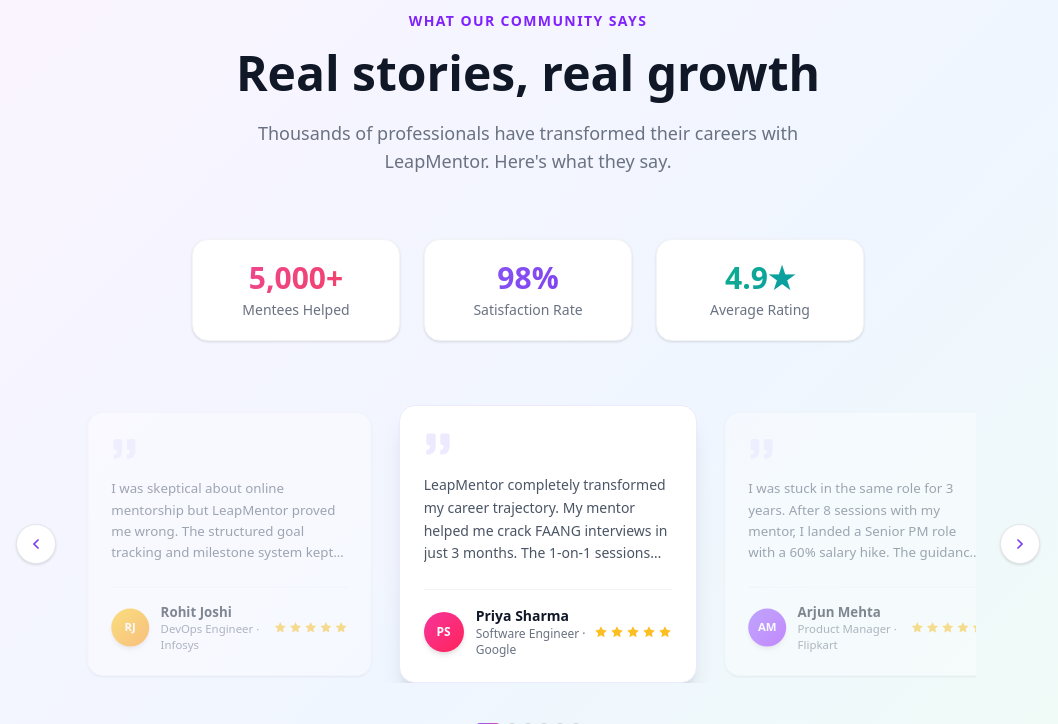
Test: TestimonialsWidget › navigates using prev/next buttons and respects animating guard
Click the button with aria-label "Show next testimonial": (867, 544) [717,405,1016,683]
Wait 300 ms
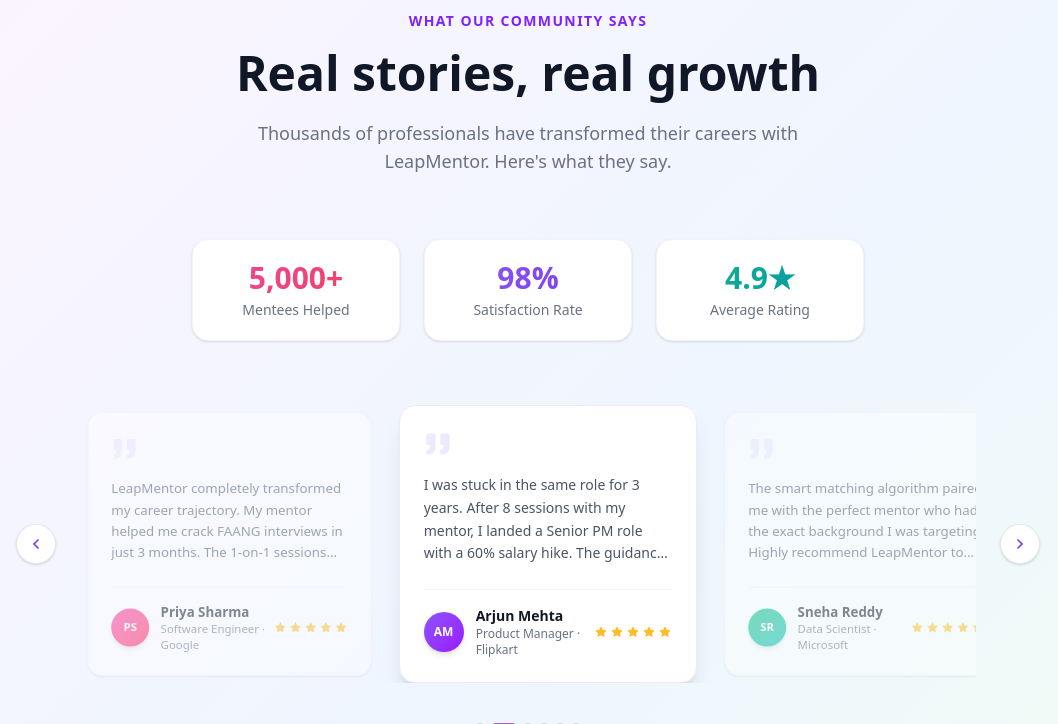
Check: the element with class "shadow-xl" is shown, box [399,405,697,683]
Check: the element with class "shadow-xl" shows "Arjun Mehta", box [476,606,563,625]
Click the button with aria-label "Show next testimonial": (867, 544) [717,405,1016,683]
Wait 300 ms
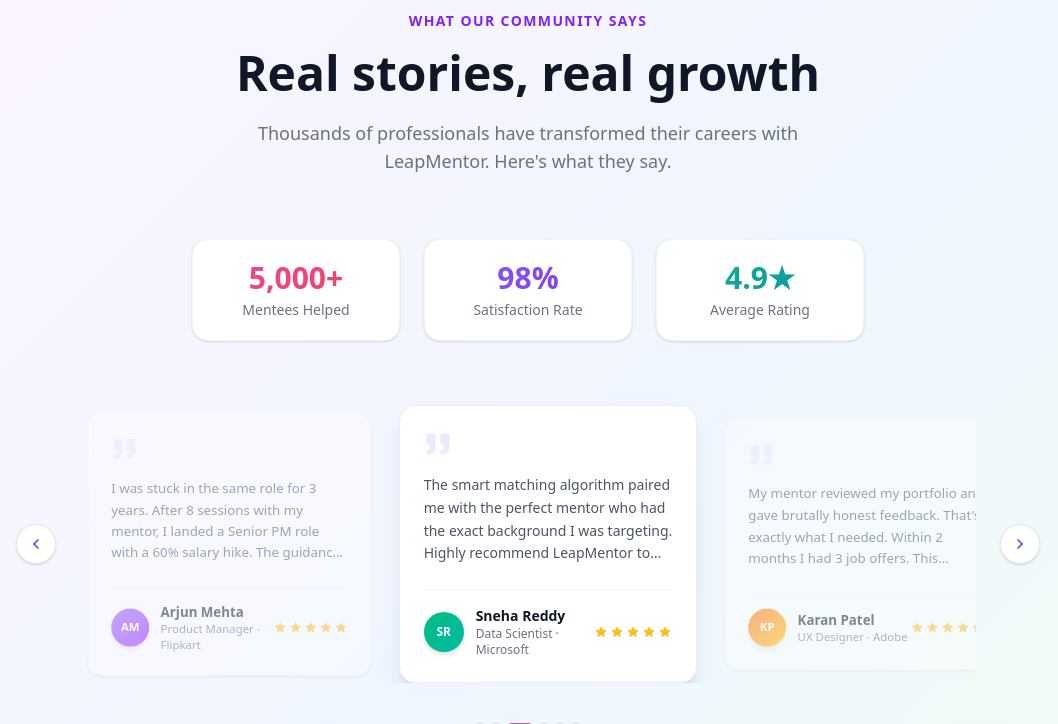
Check: the element with class "shadow-xl" is shown, box [399,405,697,683]
Check: the element with class "shadow-xl" shows "Sneha Reddy", box [476,606,565,625]
Click the button with aria-label "Show previous testimonial": (229, 544) [80,405,379,683]
Wait 300 ms
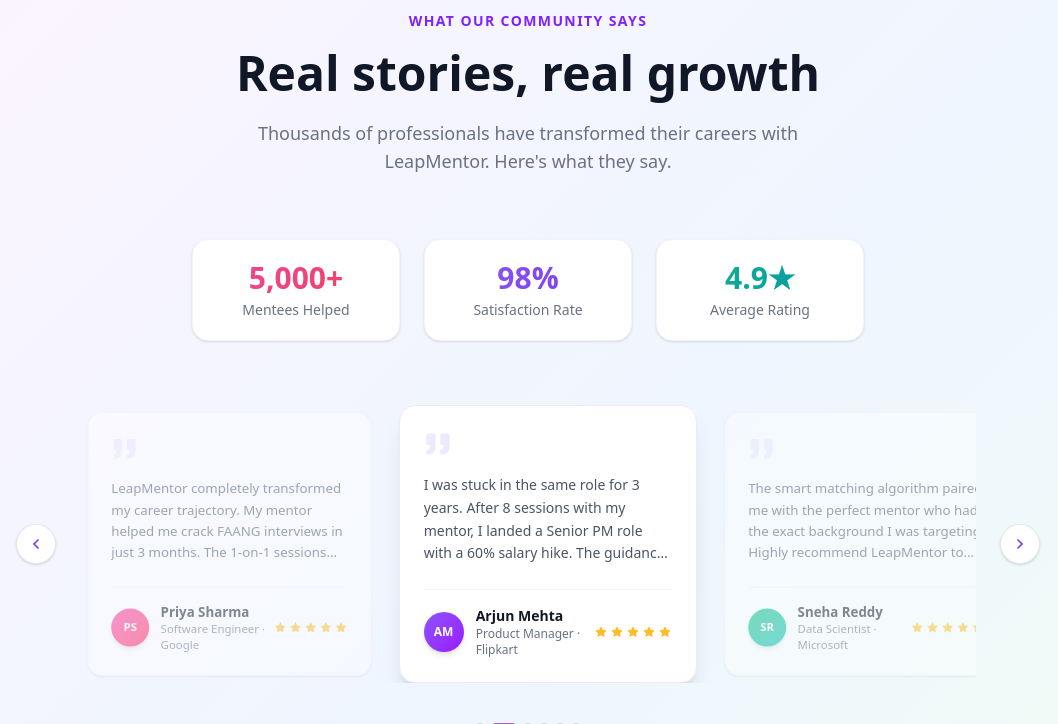
Check: the element with class "shadow-xl" shows "Arjun Mehta", box [476,606,563,625]
